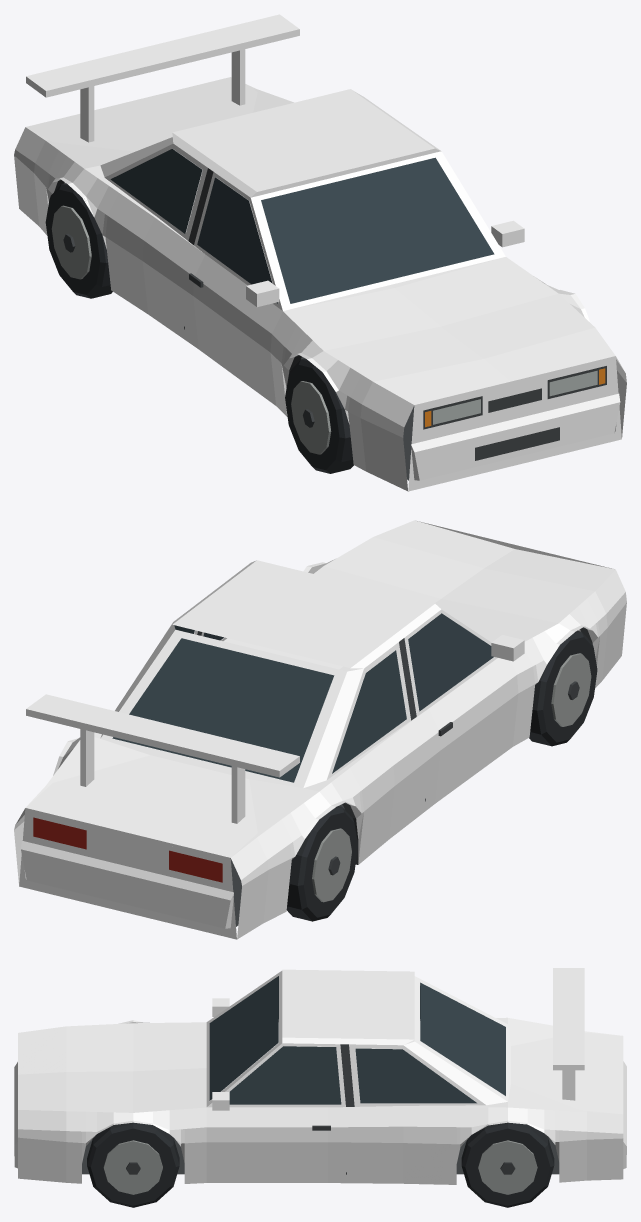
The model's file is vorhaus_specht_corrida.glb.
3 renders of one model, top to bottom at view 1: azimuth 30°, elevation 25°; view 2: azimuth 150°, elevation 25°; view 3: azimuth 270°, elevation 25°, orthographic. The views are drawn at different scales.
Parts seen in each view (by area): view 1: vorhaus_specht_corrida; view 2: vorhaus_specht_corrida; view 3: vorhaus_specht_corrida.
Boxes of the visible parts, box(x1,y1,x2,y2) form: vorhaus_specht_corrida: box(14, 14, 626, 491); vorhaus_specht_corrida: box(14, 520, 626, 939); vorhaus_specht_corrida: box(14, 968, 626, 1207).
Bounding box in the file's own units: 1.69 × 1.2 × 4.27.
8 materials, 1 textured.
